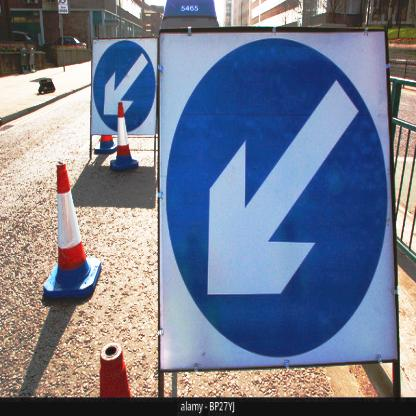Keep left: (161, 36, 392, 362), (94, 36, 158, 140)
